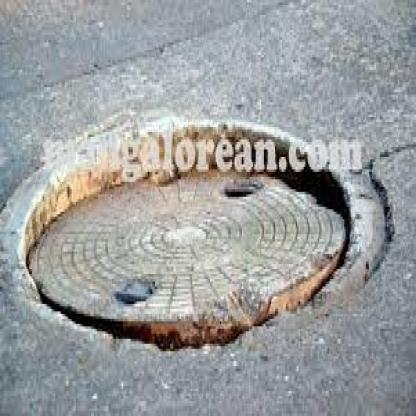closed manhole-not overflowing-: (10, 122, 372, 346)
